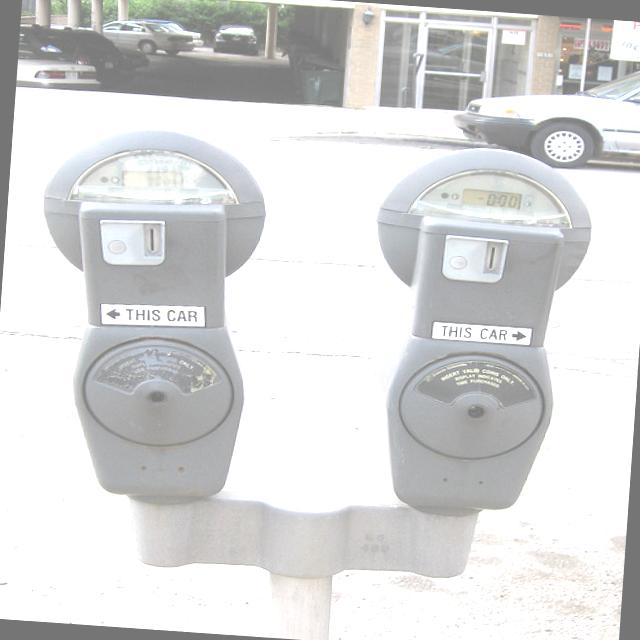Vehicle: (445, 46, 640, 173), (16, 24, 152, 77), (15, 39, 104, 92), (100, 18, 196, 56), (130, 17, 205, 46), (210, 24, 260, 56)
